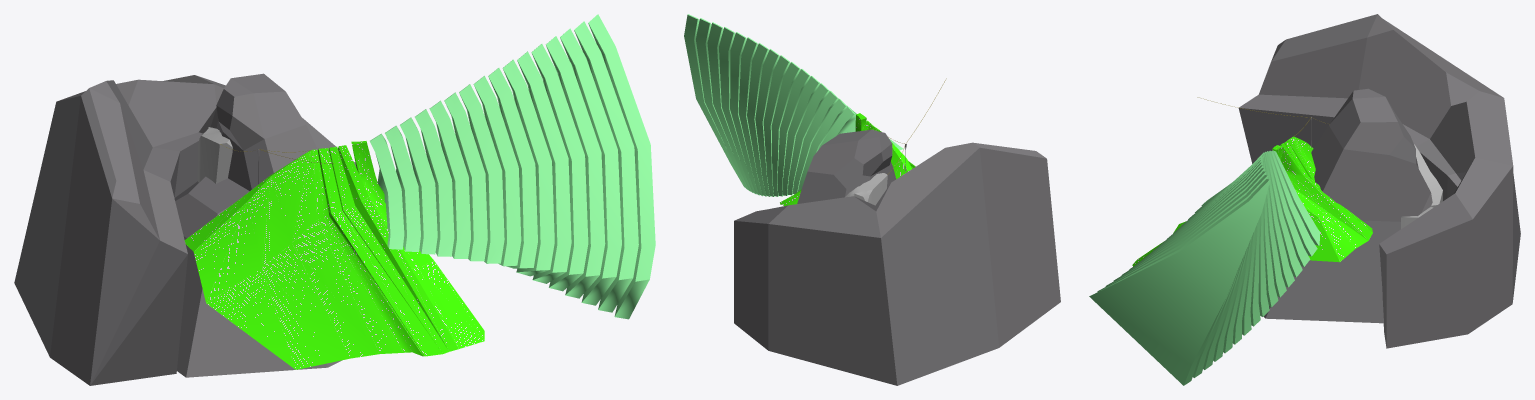
The model's file is LevelMtFuji.glb.
The picture shows the model from 3 angles, left to right: view 1: azimuth 30°, elevation 25°; view 2: azimuth 150°, elevation 25°; view 3: azimuth 270°, elevation 25°; orthographic projection. The views are drawn at different scales.
Parts seen in each view (by area): view 1: ridgway-2, mountain-2, ridgeway-1, mountain-1, way; view 2: mountain-2, ridgway-2, mountain-1, ridgeway-1, way; view 3: mountain-2, ridgway-2, mountain-1, ridgeway-1, way.
Boxes of the visible parts, bbox=[...] form: ridgway-2: bbox=[370, 14, 655, 319]; mountain-2: bbox=[14, 75, 356, 385]; ridgeway-1: bbox=[184, 141, 484, 369]; mountain-1: bbox=[174, 73, 341, 377]; way: bbox=[197, 127, 232, 183]; mountain-2: bbox=[734, 142, 1060, 385]; ridgway-2: bbox=[684, 14, 903, 196]; mountain-1: bbox=[797, 129, 895, 203]; ridgeway-1: bbox=[780, 113, 915, 205]; way: bbox=[845, 173, 887, 205]; mountain-2: bbox=[1238, 14, 1520, 348]; ridgway-2: bbox=[1089, 150, 1319, 385]; mountain-1: bbox=[1263, 88, 1432, 323]; ridgeway-1: bbox=[1132, 136, 1372, 266]; way: bbox=[1401, 144, 1442, 228].
Size of what is drawn, in the model's own units: 856 by 451 by 755.
Materials: 2 (1 with a texture image).
